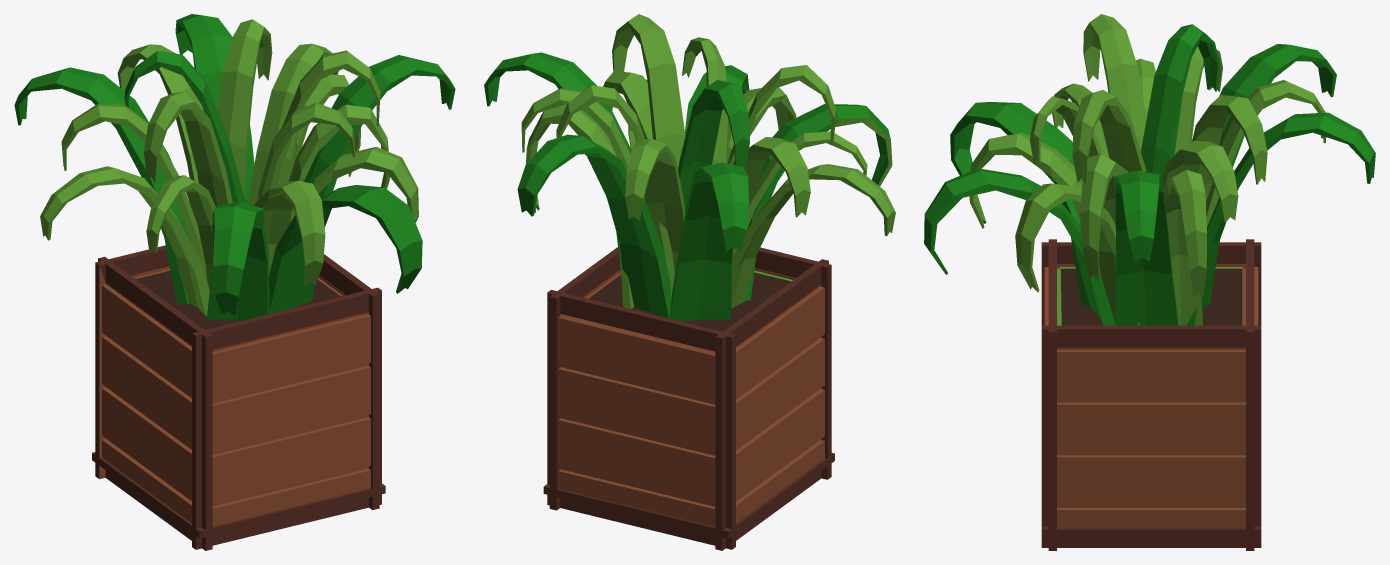
The model's file is crate_plant.fbx.
3 views of the same model, side by side, from view 1: azimuth 30°, elevation 25°; view 2: azimuth 150°, elevation 25°; view 3: azimuth 270°, elevation 25° (orthographic). The views are drawn at different scales.
Visible parts, largest first — view 1: pot.002; view 2: pot.002; view 3: pot.002.
Part boxes in pixels (box(x1,y1,x2,y2)): pot.002: box(14, 14, 455, 550); pot.002: box(484, 14, 895, 550); pot.002: box(924, 14, 1375, 550).
Size of the model in its own units: 89.08 by 92.26 by 83.9.
